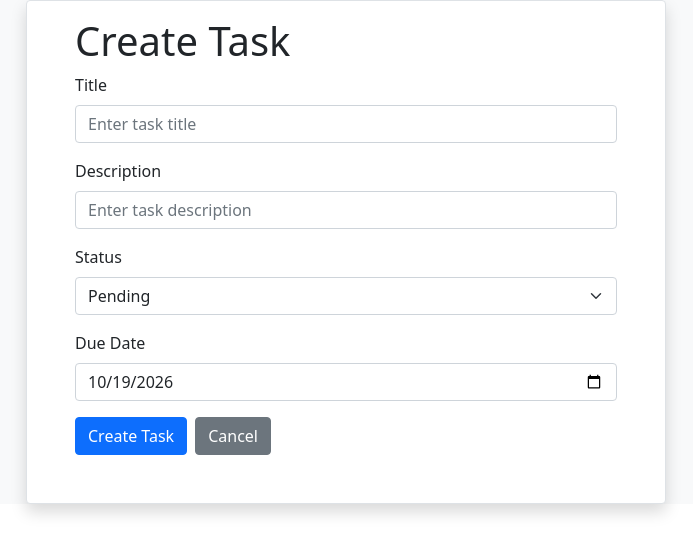
Test: addtask functionality › shows error if title is too short
Type "abc" into the field labelled "Title" at (346, 124), box [75,105,617,143]
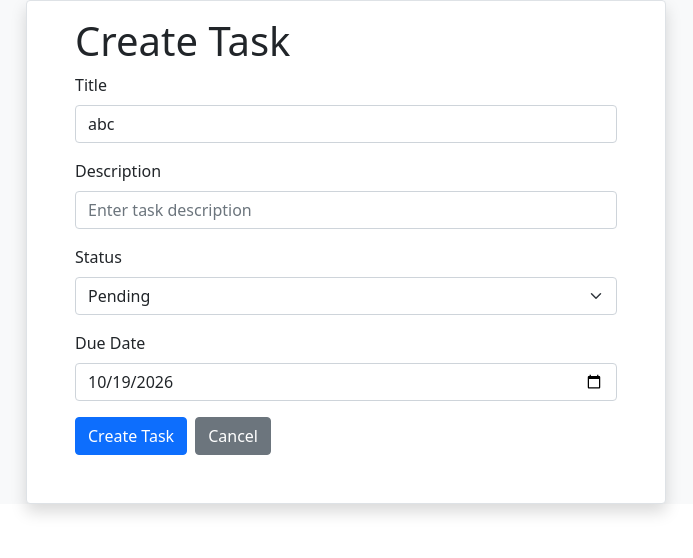
Click the button "Create Task" at (131, 436), box [75,417,187,455]
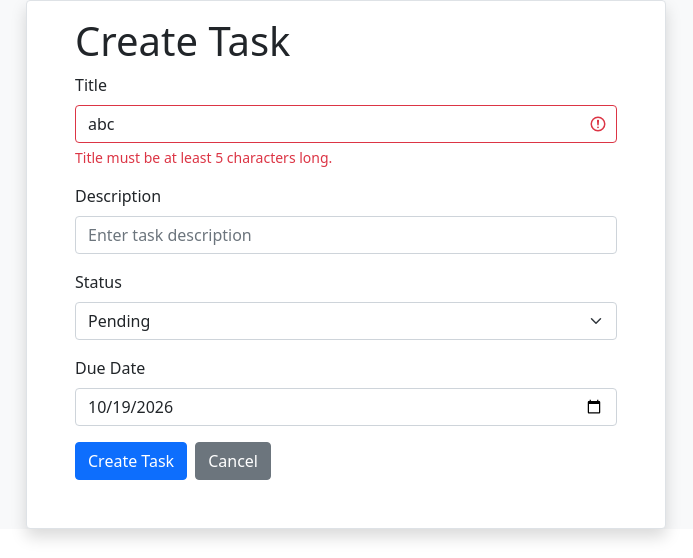
Now the text "Title must be at least 5 characters long." is shown, box [75,148,332,167]
